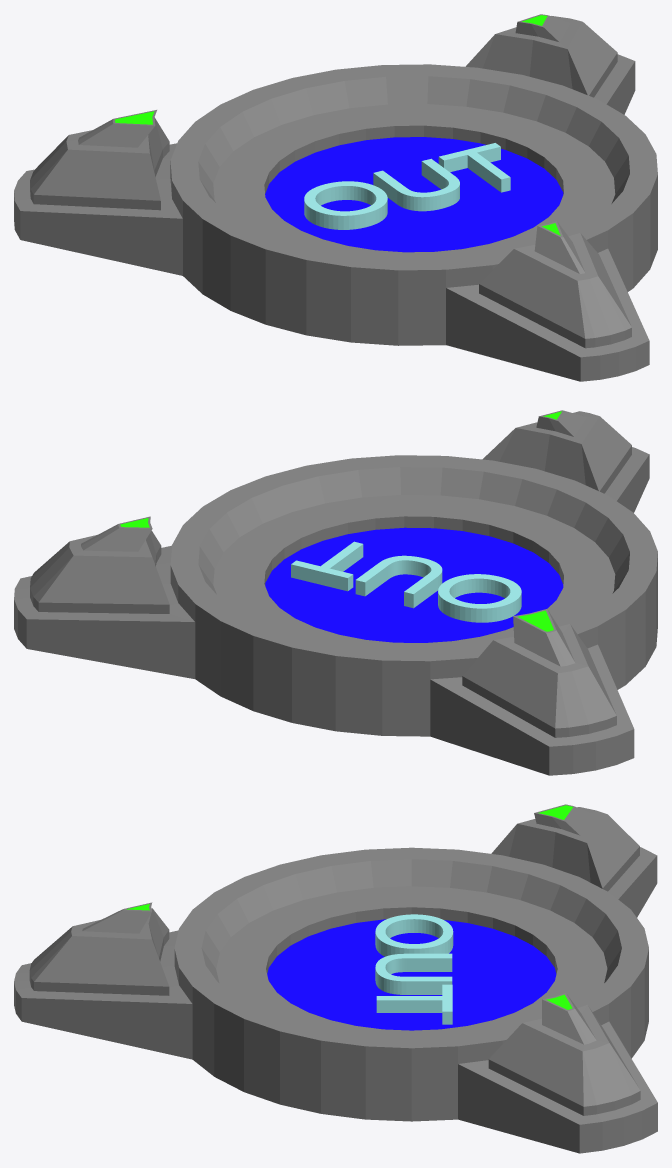
File: TeleporterOut.glb
The picture shows the model from 3 angles, top to bottom: view 1: azimuth 30°, elevation 25°; view 2: azimuth 150°, elevation 25°; view 3: azimuth 270°, elevation 25°; orthographic projection. The views are drawn at different scales.
Visible parts, largest first — view 1: Cylinder, IN, Cube; view 2: Cylinder, IN, Cube; view 3: Cylinder, IN, Cube.
Boxes of the visible parts, x1=… form: Cylinder: x1=14, y1=14, x2=657, y2=381; IN: x1=304, y1=158, x2=459, y2=229; Cube: x1=438, y1=143, x2=510, y2=192; Cylinder: x1=14, y1=410, x2=657, y2=775; IN: x1=355, y1=555, x2=521, y2=622; Cube: x1=291, y1=541, x2=363, y2=591; Cylinder: x1=14, y1=804, x2=657, y2=1153; IN: x1=375, y1=914, x2=453, y2=994; Cube: x1=376, y1=984, x2=452, y2=1024.
Size of the model in its own units: 1.95 by 0.3596 by 1.82.
